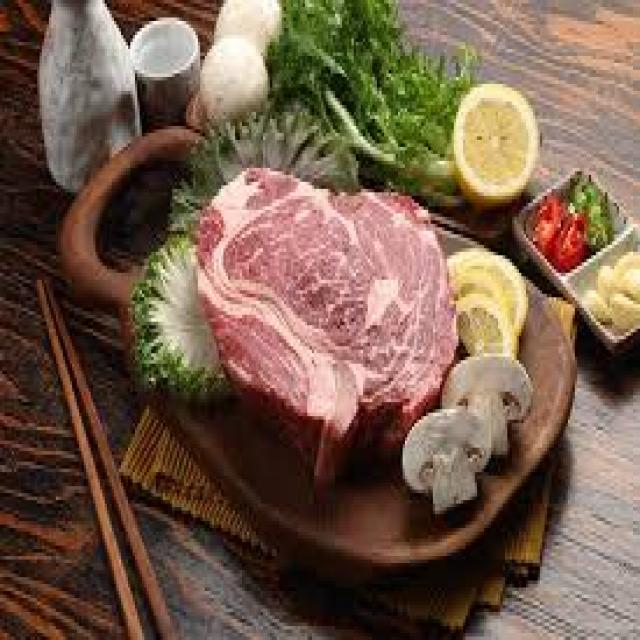Beef: (198, 168, 456, 442)
